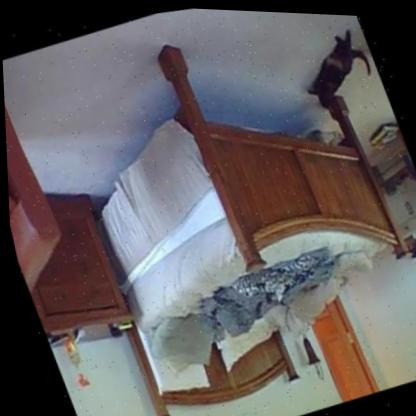Bed: (19, 1, 416, 416)
